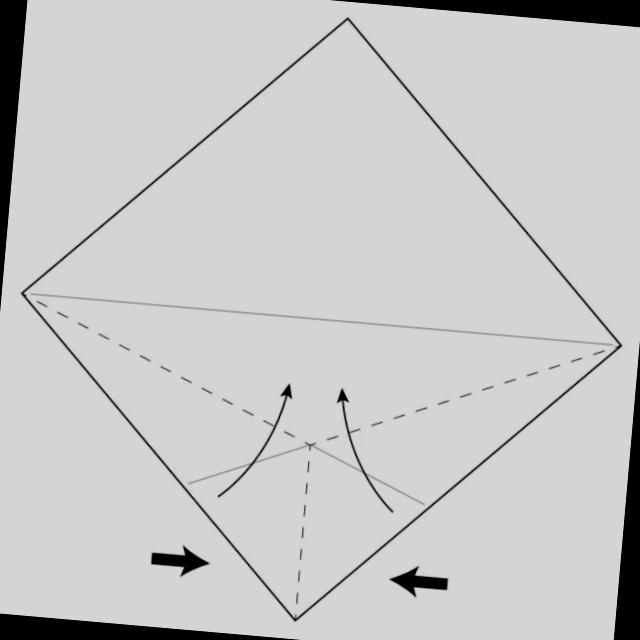arrow: (219, 384, 292, 496), (338, 389, 392, 511), (392, 567, 447, 595), (152, 547, 208, 574)
fold-line: (21, 284, 309, 450), (18, 282, 628, 357), (304, 341, 624, 454), (301, 434, 434, 510), (177, 440, 308, 493), (286, 436, 320, 625)
